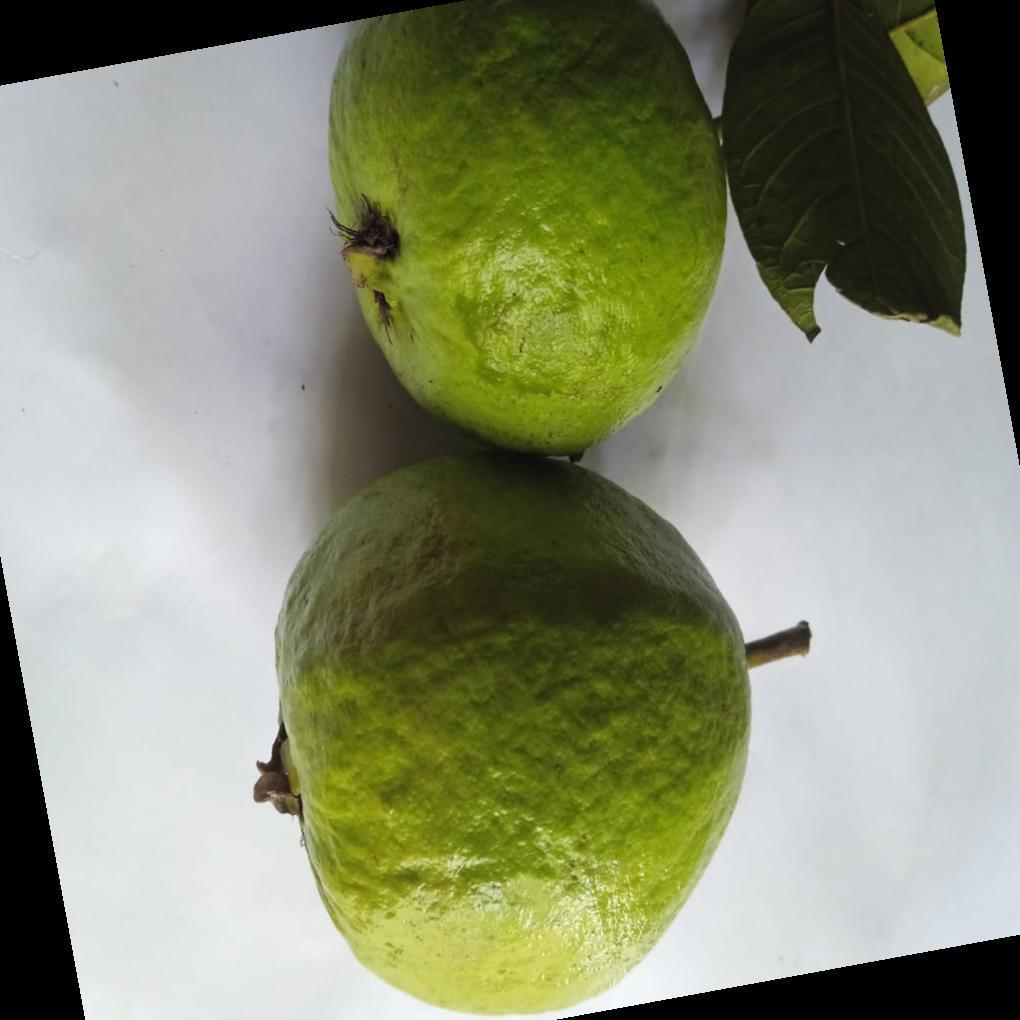FreshGuava: (272, 0, 755, 1020)
